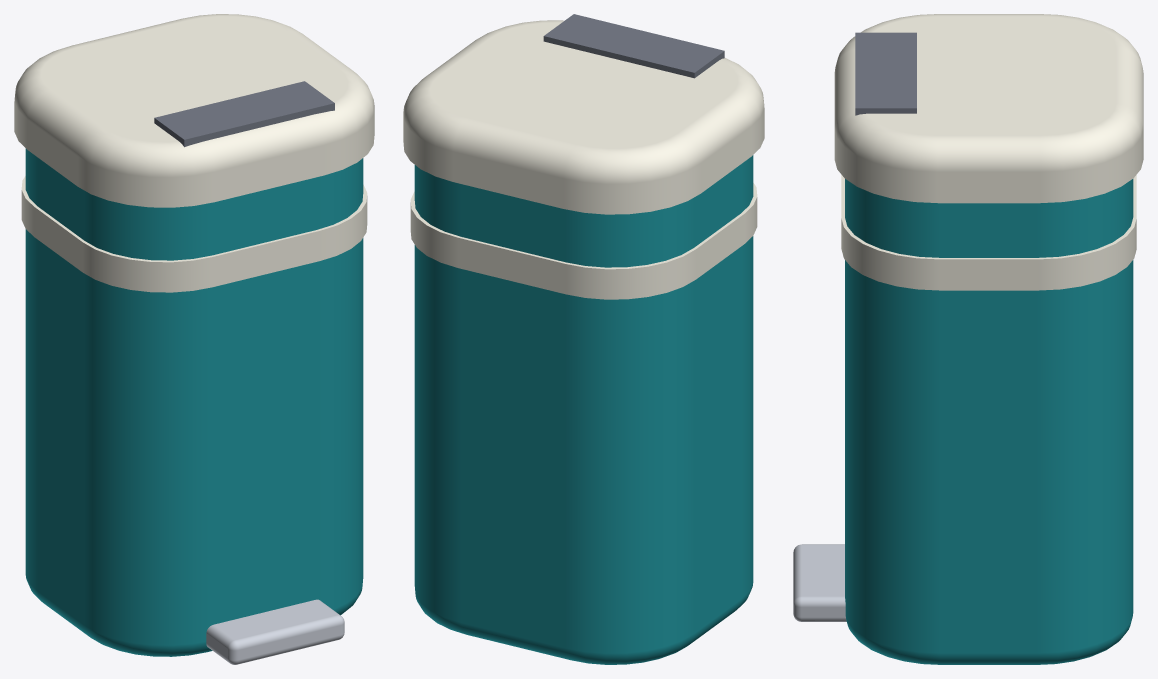
Rendered from TrashBinV2.glb.
3 views of the same model, side by side, from view 1: azimuth 30°, elevation 25°; view 2: azimuth 150°, elevation 25°; view 3: azimuth 270°, elevation 25° (orthographic). The views are drawn at different scales.
Parts seen in each view (by area): view 1: counterFront, counterPanel (×2), metalLight, metalDark; view 2: counterFront, counterPanel (×2), metalDark; view 3: counterFront, counterPanel (×2), metalDark, metalLight.
Boxes of the visible parts, x1=… form: counterFront: x1=25, y1=148, x2=363, y2=656; counterPanel (×2): x1=14, y1=14, x2=374, y2=292; metalLight: x1=206, y1=599, x2=344, y2=664; metalDark: x1=154, y1=81, x2=334, y2=147; counterFront: x1=414, y1=155, x2=753, y2=664; counterPanel (×2): x1=403, y1=20, x2=764, y2=299; metalDark: x1=543, y1=14, x2=724, y2=78; counterFront: x1=845, y1=179, x2=1133, y2=664; counterPanel (×2): x1=834, y1=14, x2=1143, y2=290; metalDark: x1=855, y1=32, x2=916, y2=115; metalLight: x1=793, y1=544, x2=846, y2=621.
Bounding box in the file's own units: 0.49 × 0.859 × 0.51.
